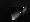person: (13, 5, 27, 20)
